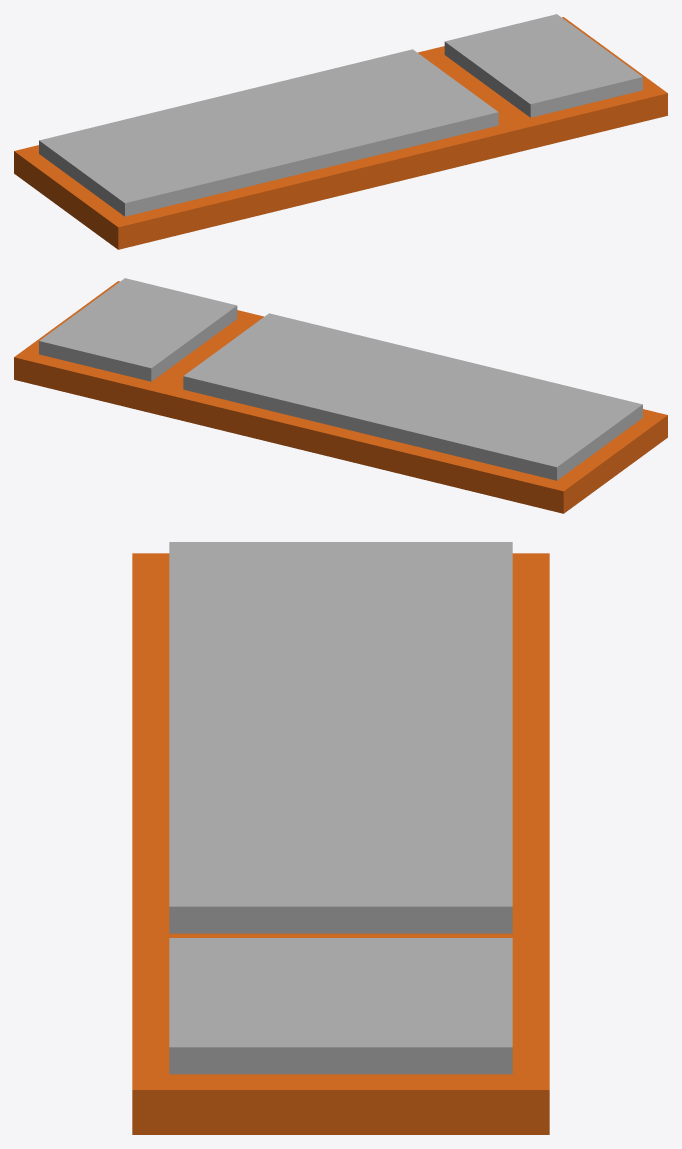
Rendered from Itr_Obj_Keyboard_05.FBX.
3 renders of one model, top to bottom at view 1: azimuth 30°, elevation 25°; view 2: azimuth 150°, elevation 25°; view 3: azimuth 270°, elevation 25°, orthographic. The views are drawn at different scales.
Parts seen in each view (by area): view 1: Itr_Obj_Keyboard_05; view 2: Itr_Obj_Keyboard_05; view 3: Itr_Obj_Keyboard_05.
Part boxes in pixels (<box>): Itr_Obj_Keyboard_05: <box>14,14,667,249</box>; Itr_Obj_Keyboard_05: <box>14,278,667,513</box>; Itr_Obj_Keyboard_05: <box>132,542,549,1134</box>.
Size of the model in its own units: 29.34 by 1.83 by 9.64.
